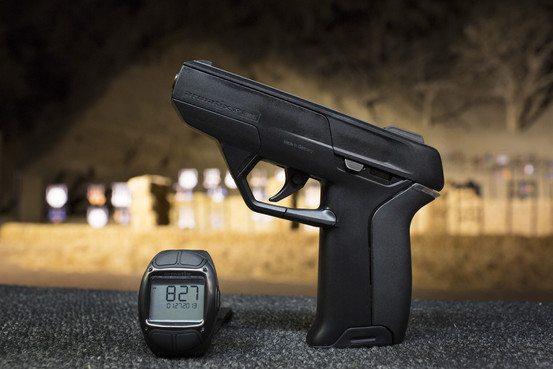gun: (164, 54, 447, 355)
